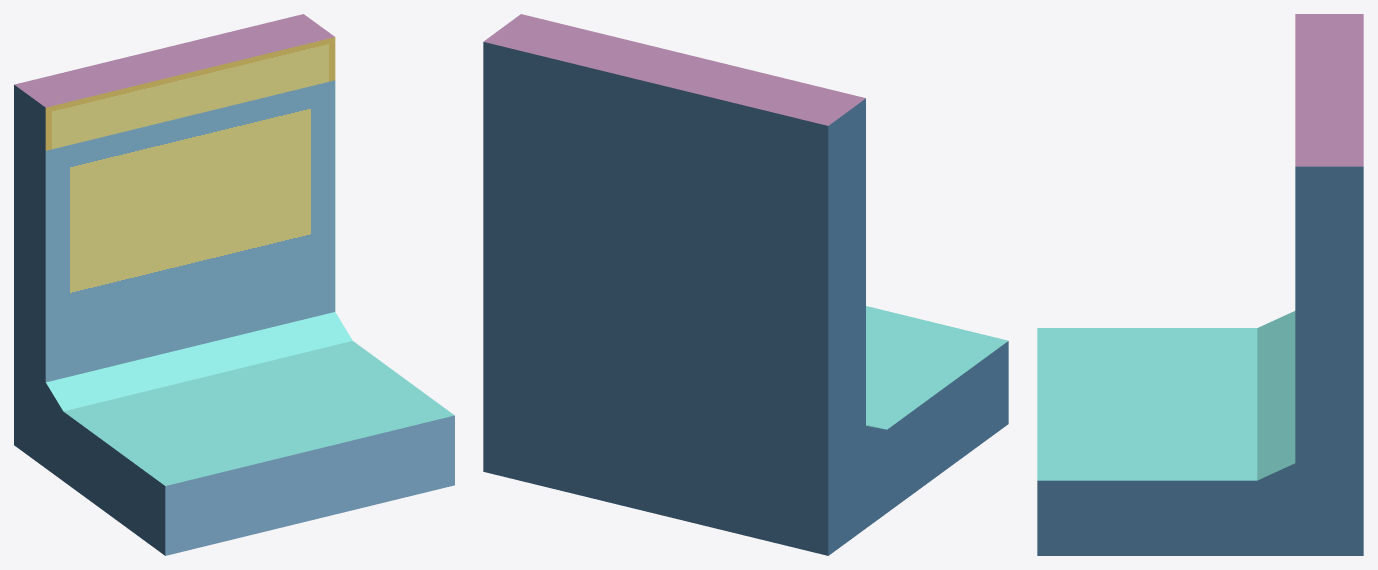
File: JST_Prototype Console.gltf
The picture shows the model from 3 angles, left to right: view 1: azimuth 30°, elevation 25°; view 2: azimuth 150°, elevation 25°; view 3: azimuth 270°, elevation 25°; orthographic projection. The views are drawn at different scales.
Parts seen in each view (by area): view 1: Base Terminal; view 2: Base Terminal; view 3: Base Terminal.
Boxes of the visible parts, box(x1,y1,x2,y2) form: Base Terminal: box(14, 14, 454, 555); Base Terminal: box(483, 14, 1008, 555); Base Terminal: box(1037, 14, 1363, 555).
Size of the model in its own units: 1.31 by 1.56 by 1.19.
Materials: 1 (1 with a texture image).
